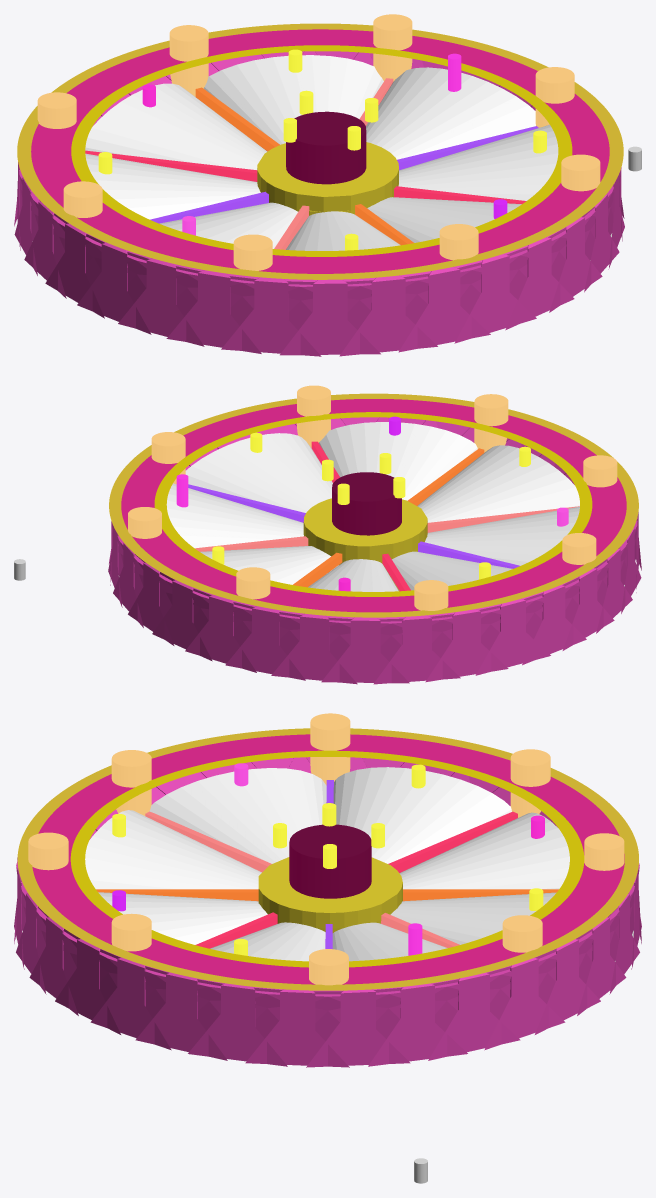
File: spintowin.glb
The picture shows the model from 3 angles, top to bottom: view 1: azimuth 30°, elevation 25°; view 2: azimuth 150°, elevation 25°; view 3: azimuth 270°, elevation 25°; orthographic projection. The views are drawn at different scales.
Visible parts, largest first — view 1: Cylinder.011; view 2: Cylinder.011; view 3: Cylinder.011.
Boxes of the visible parts, bbox=[...] form: Cylinder.011: bbox=[14, 14, 624, 356]; Cylinder.011: bbox=[108, 385, 641, 684]; Cylinder.011: bbox=[14, 713, 641, 1067].
Size of the model in its own units: 14.51 by 3.86 by 12.21.
